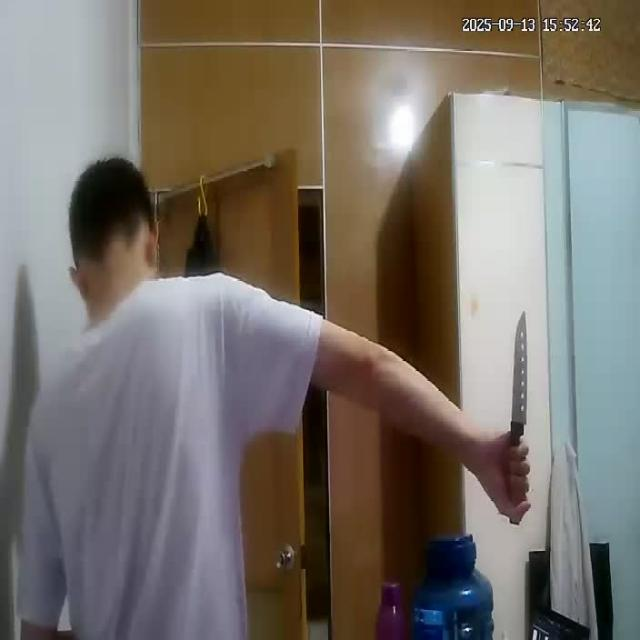senjata_tajam: (508, 308, 531, 447)
